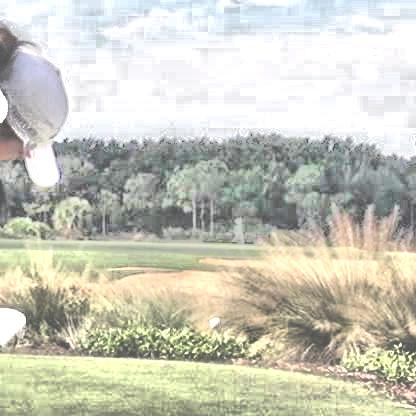golfball: (206, 315, 217, 328)
